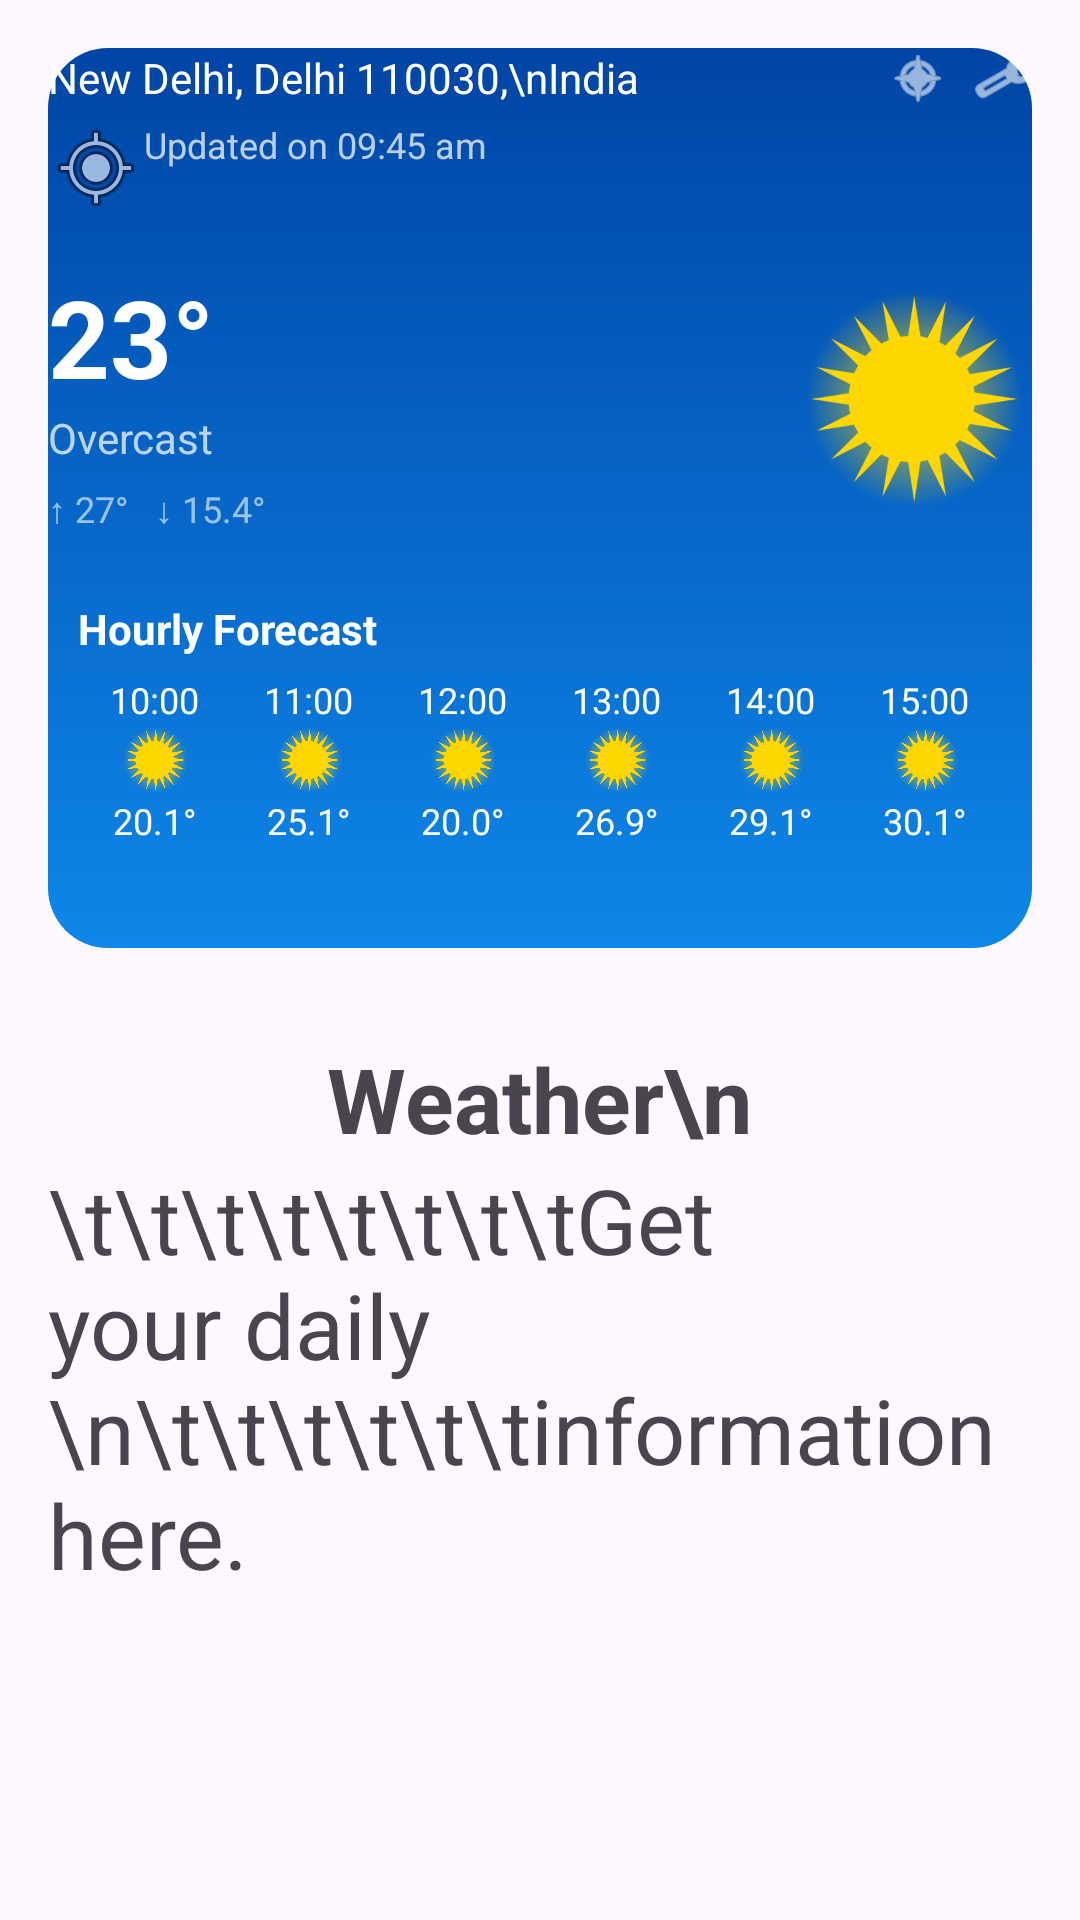

Point at icon controls on the screen. Image size 1080px x 1920px, points as point (x, y).
manage: point (1002, 78)
